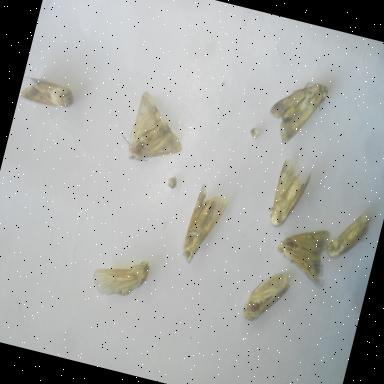abw: (113, 84, 196, 175), (258, 68, 334, 154), (266, 216, 340, 292), (175, 179, 233, 270), (84, 240, 156, 310), (259, 152, 317, 236), (236, 260, 294, 334), (320, 200, 376, 268), (17, 72, 80, 116)
